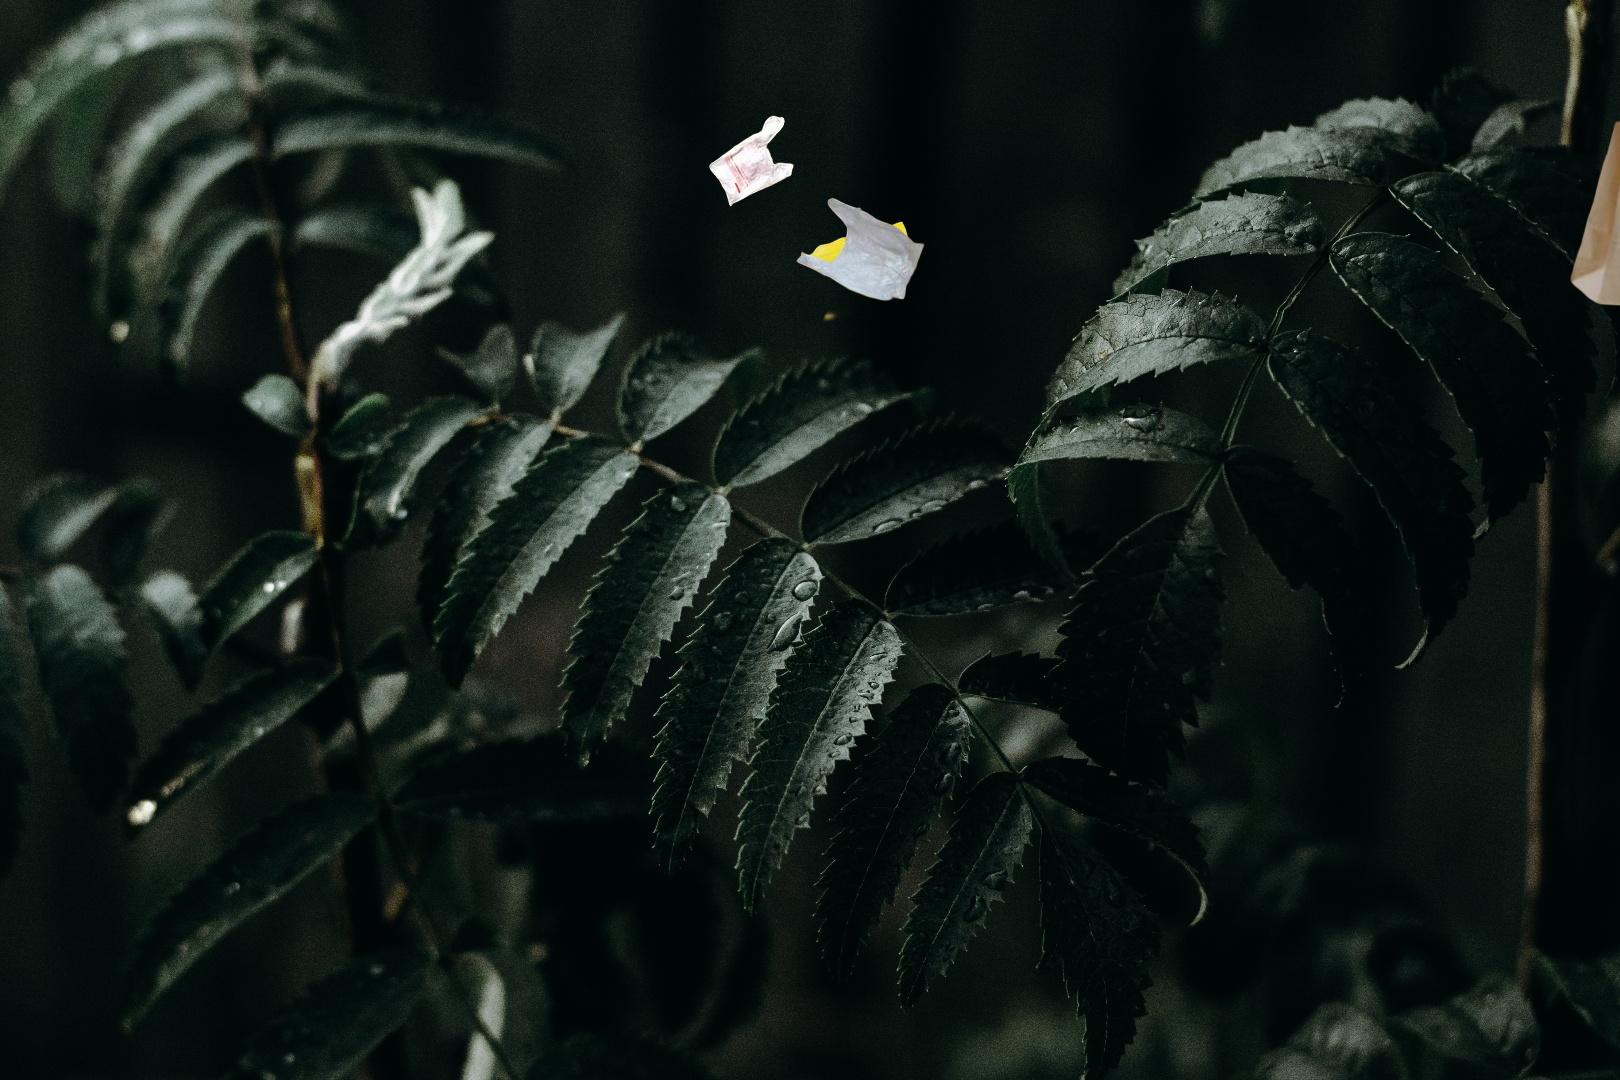paper-bag: (1567, 118, 1620, 331)
plastic-bag: (706, 112, 927, 324)
